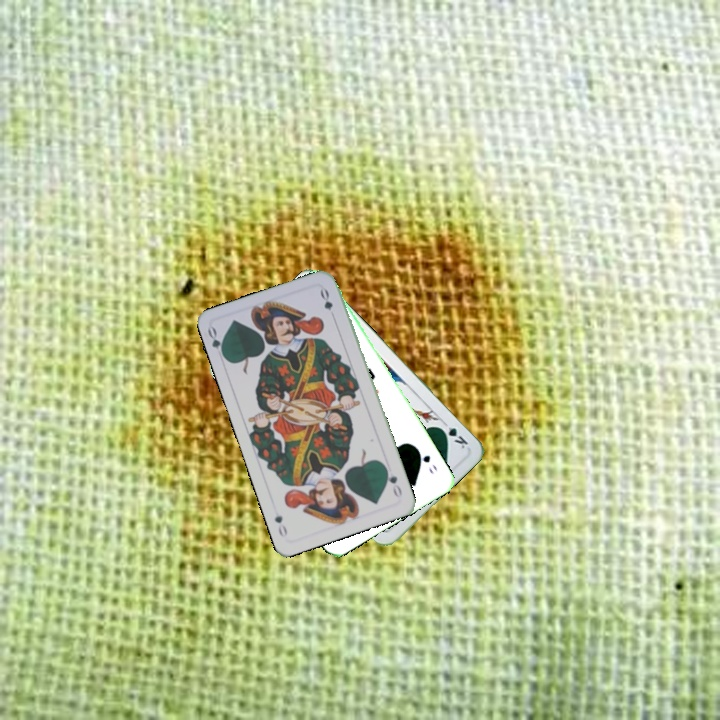GK: (435, 417, 471, 453)
GO: (203, 323, 229, 362), (413, 445, 440, 477), (381, 463, 404, 500)
